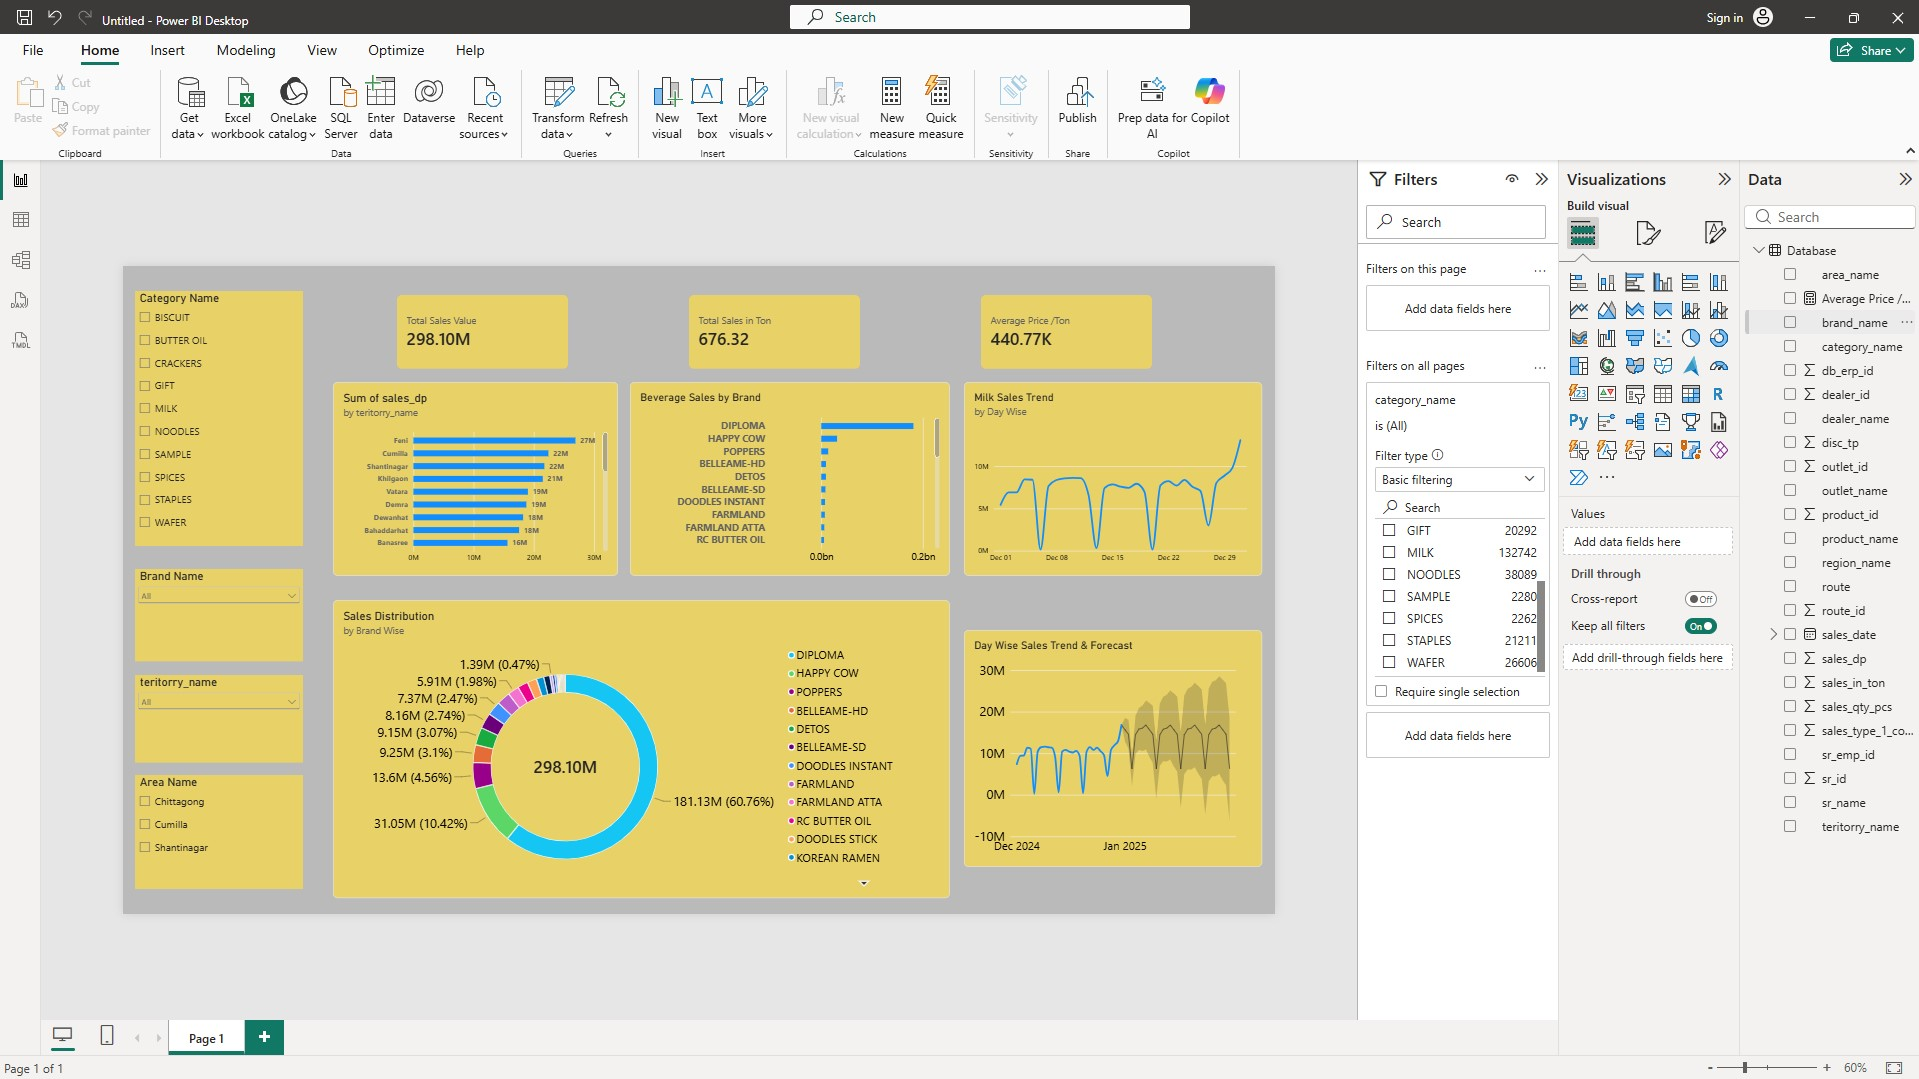

What the dashboard file says about the page in this screenshot:
{"tool":"powerbi","page":{"name":"Page 1","canvas":[1920,1080],"ordinal":0},"visuals":[{"type":"slicer","fields":{"Values":["Database.area_name"]},"box":[20,848.3,280,190],"z":0},{"type":"slicer","fields":{"Values":["Database.teritorry_name"]},"box":[20,681.7,280,146],"z":1},{"type":"slicer","fields":{"Values":["Database.category_name"]},"box":[20,41.7,280,425],"z":2},{"type":"slicer","fields":{"Values":["Database.brand_name"]},"box":[20,505,280,154],"z":3},{"type":"cardVisual","fields":{"Data":["Sum(Database.sales_dp)"]},"box":[456.7,48.3,285,123.3],"z":4},{"type":"cardVisual","fields":{"Data":["Sum(Database.sales_in_ton)"]},"box":[943.3,48.3,285,123.3],"z":5},{"type":"cardVisual","fields":{"Data":["Database.Average Price /Ton"]},"box":[1430,48.3,285,123.3],"z":6},{"type":"clusteredBarChart","fields":{"Category":["Database.teritorry_name"],"Y":["Sum(Database.sales_dp)"]},"box":[350,192.9,475,323.3],"z":7},{"type":"lineChart","fields":{"Y":["Sum(Database.sales_dp)"],"Category":["Database.sales_date"]},"box":[1401.7,192.9,496.7,323.3],"z":8},{"type":"donutChart","fields":{"Category":["Database.brand_name"],"Y":["Sum(Database.sales_dp)"]},"box":[350,556.7,1028.3,496.7],"z":9},{"type":"clusteredBarChart","title":"Beverage Sales by Brand","fields":{"Category":["Database.brand_name"],"Y":["Sum(Database.sales_dp)"]},"box":[845,192.9,533.3,323.3],"z":10},{"type":"lineChart","title":"Day Wise Sales Trend & Forecast","fields":{"Category":["Database.sales_date"],"Y":["Sum(Database.sales_dp)"]},"box":[1401.7,606.7,496.7,395],"z":11}]}

Visuals, with their boxes on the page's 1920x1080 design canvas (x1, y1, x2, y2). These are canvas units, not pixel positions in the 1919x1079 screenshot, which may show the page scaled, cropped or inside an application window:
slicer - Database.area_name: bbox=[20, 848, 300, 1038]
slicer - Database.teritorry_name: bbox=[20, 682, 300, 828]
slicer - Database.category_name: bbox=[20, 42, 300, 467]
slicer - Database.brand_name: bbox=[20, 505, 300, 659]
cardVisual - Sum(Database.sales_dp): bbox=[457, 48, 742, 172]
cardVisual - Sum(Database.sales_in_ton): bbox=[943, 48, 1228, 172]
cardVisual - Database.Average Price /Ton: bbox=[1430, 48, 1715, 172]
clusteredBarChart - Database.teritorry_name x Sum(Database.sales_dp): bbox=[350, 193, 825, 516]
lineChart - Sum(Database.sales_dp) x Database.sales_date: bbox=[1402, 193, 1898, 516]
donutChart - Database.brand_name x Sum(Database.sales_dp): bbox=[350, 557, 1378, 1053]
"Beverage Sales by Brand" clusteredBarChart: bbox=[845, 193, 1378, 516]
"Day Wise Sales Trend & Forecast" lineChart: bbox=[1402, 607, 1898, 1002]
